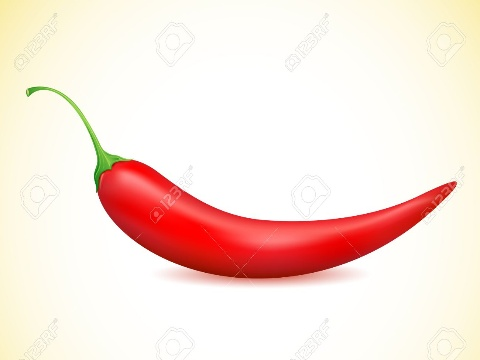Chilli: (21, 74, 466, 298)
